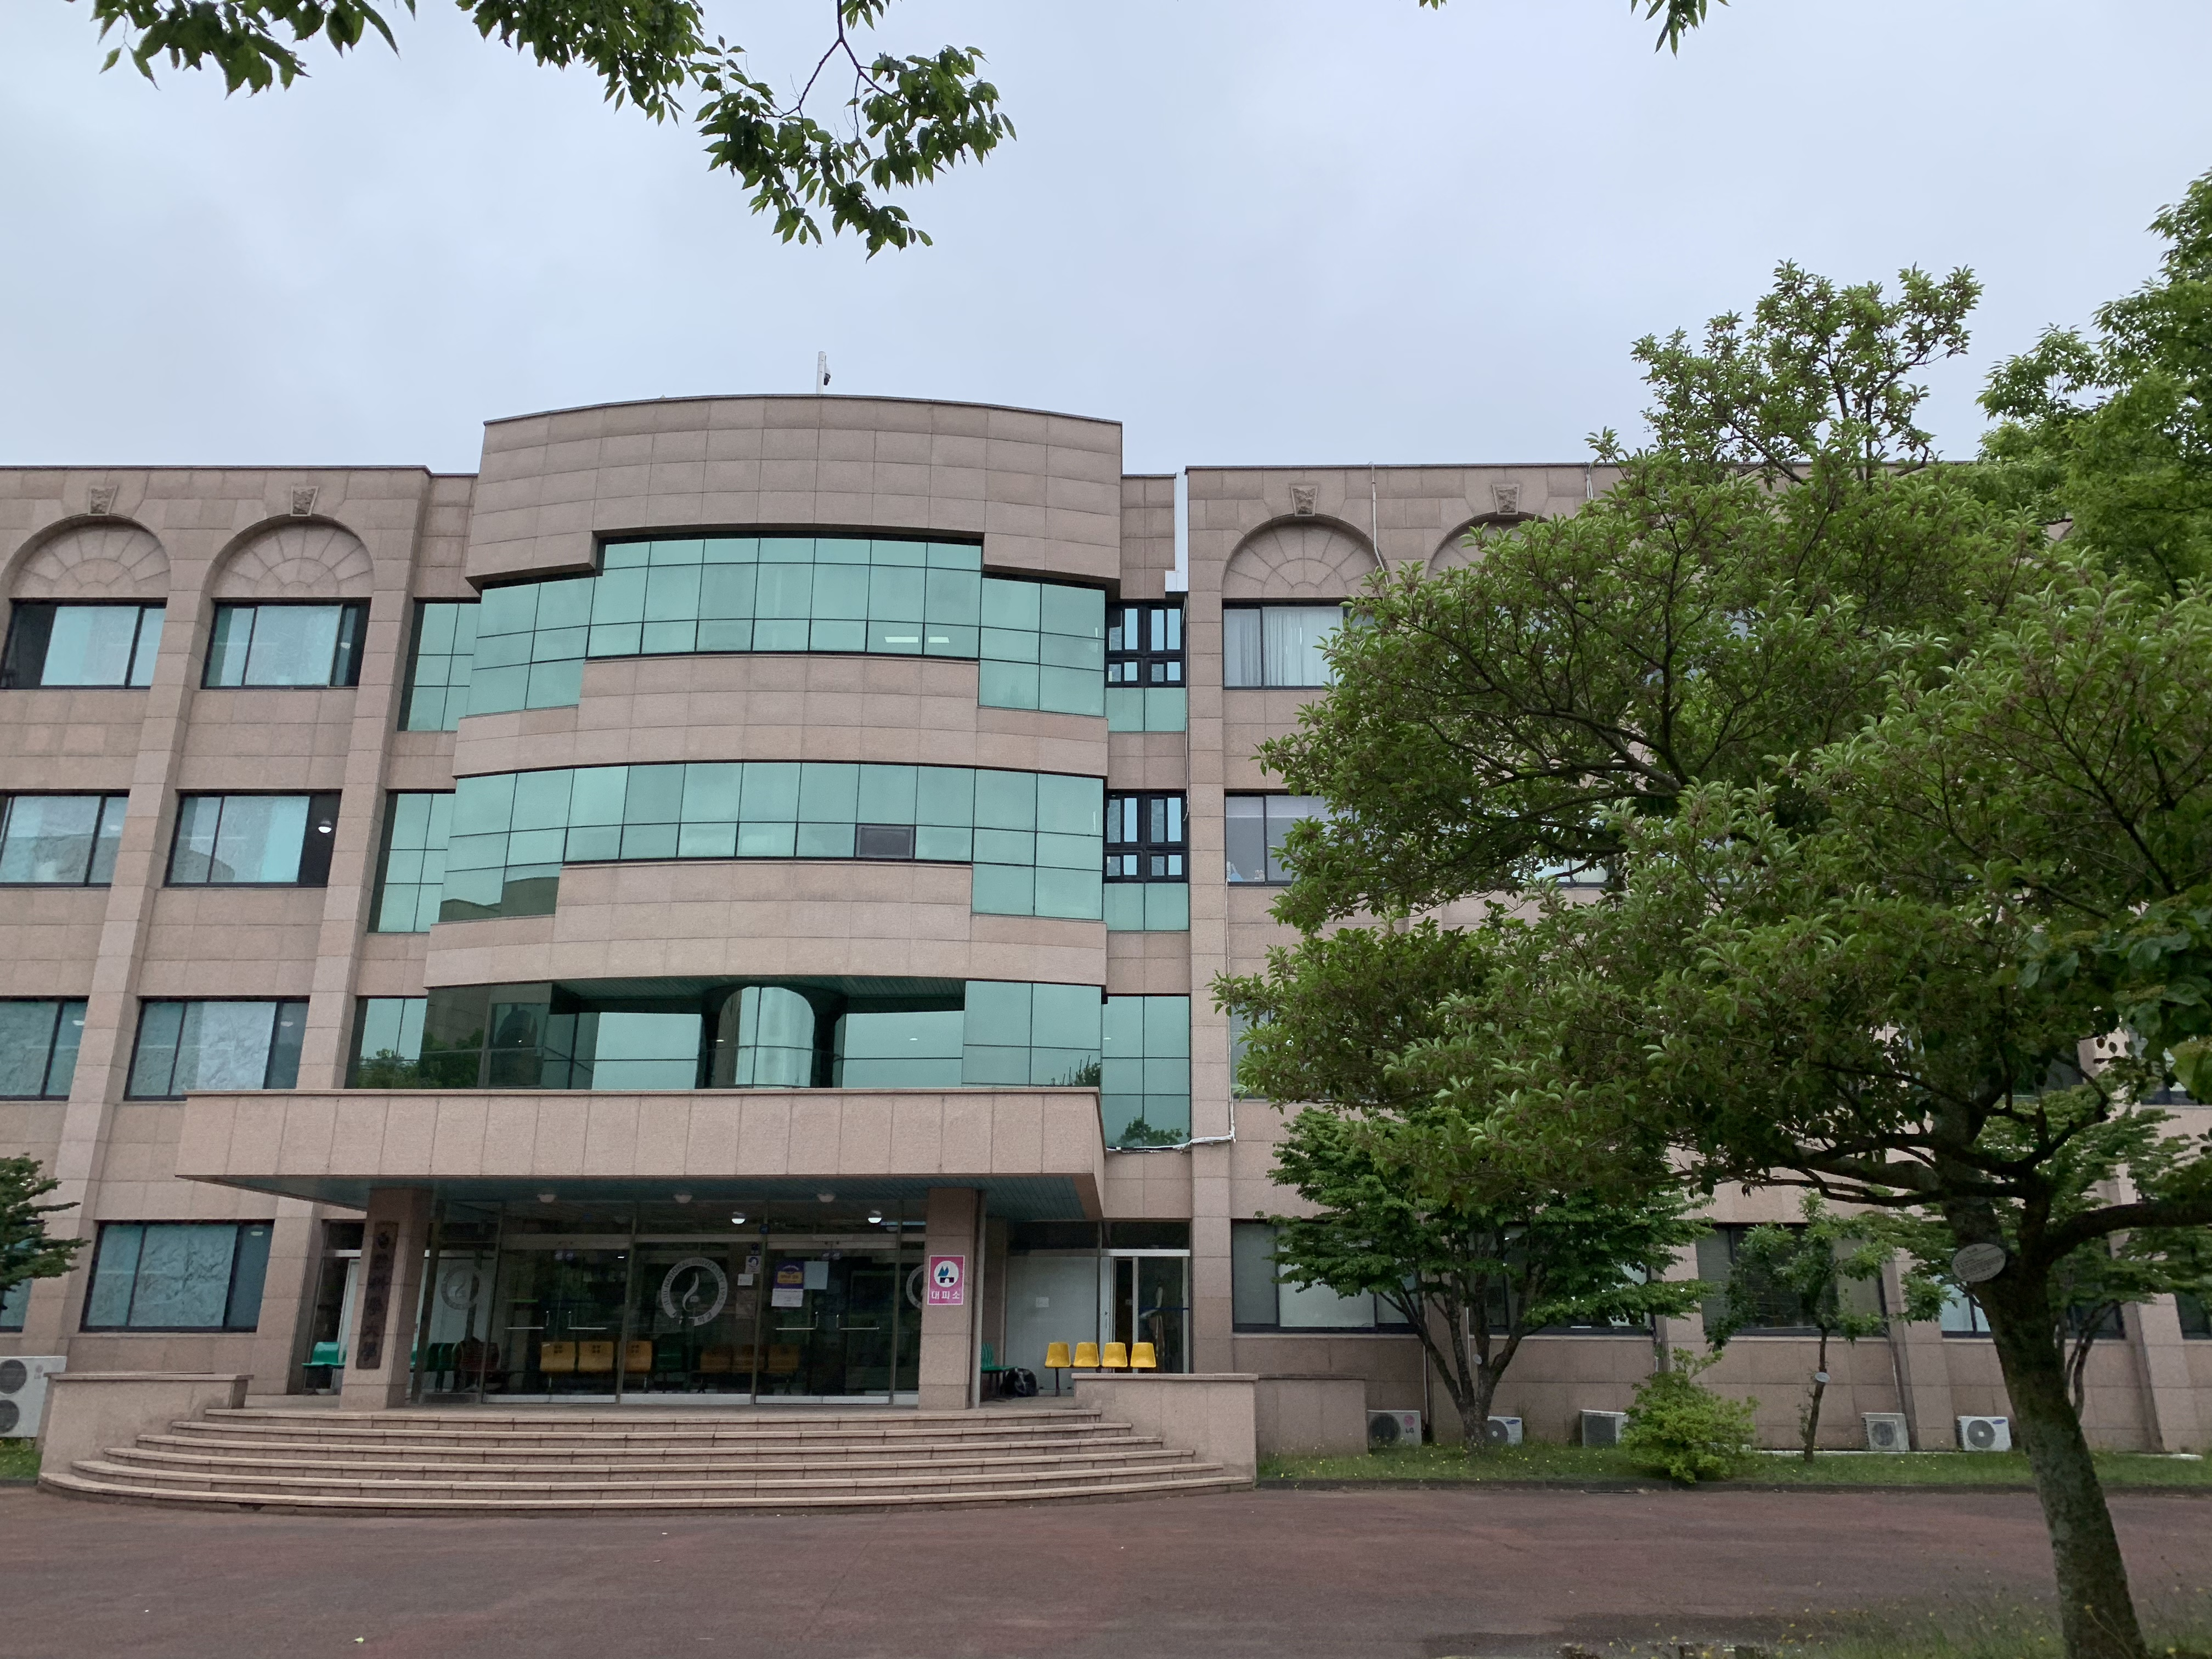Natural Science2: (89, 373, 1355, 1520)
